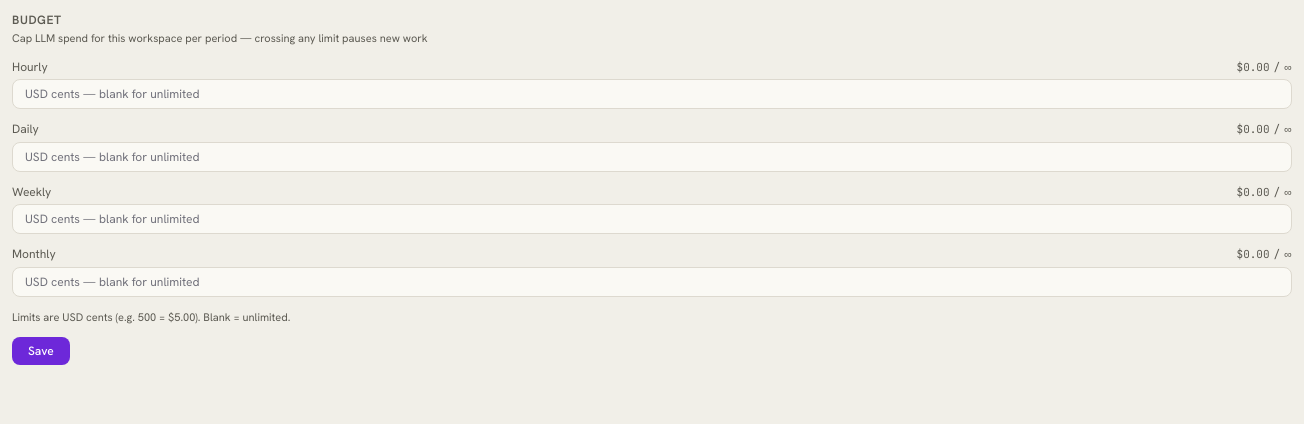
Test: BudgetSection (multi-period) › save › shows a save error on non-402 PATCH failure
Click the button with test id "budget-save-btn" at {"x": 41, "y": 351}, box [12,337,70,365]
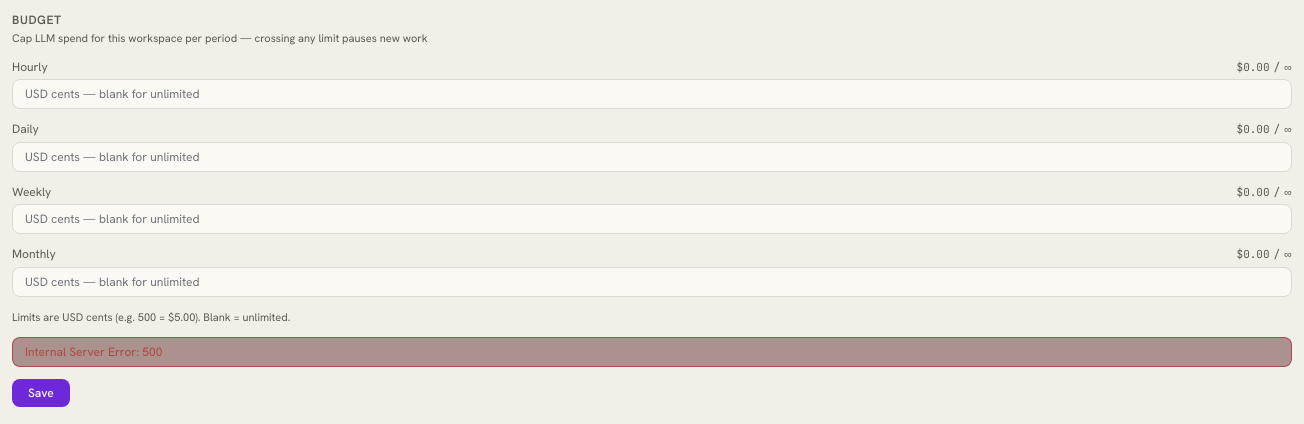
Expected: the message "Internal Server Error: 500" is shown, [12,337,1292,367]
Expected: the message with test id "budget-save-error" shows "500", [25,344,162,360]
